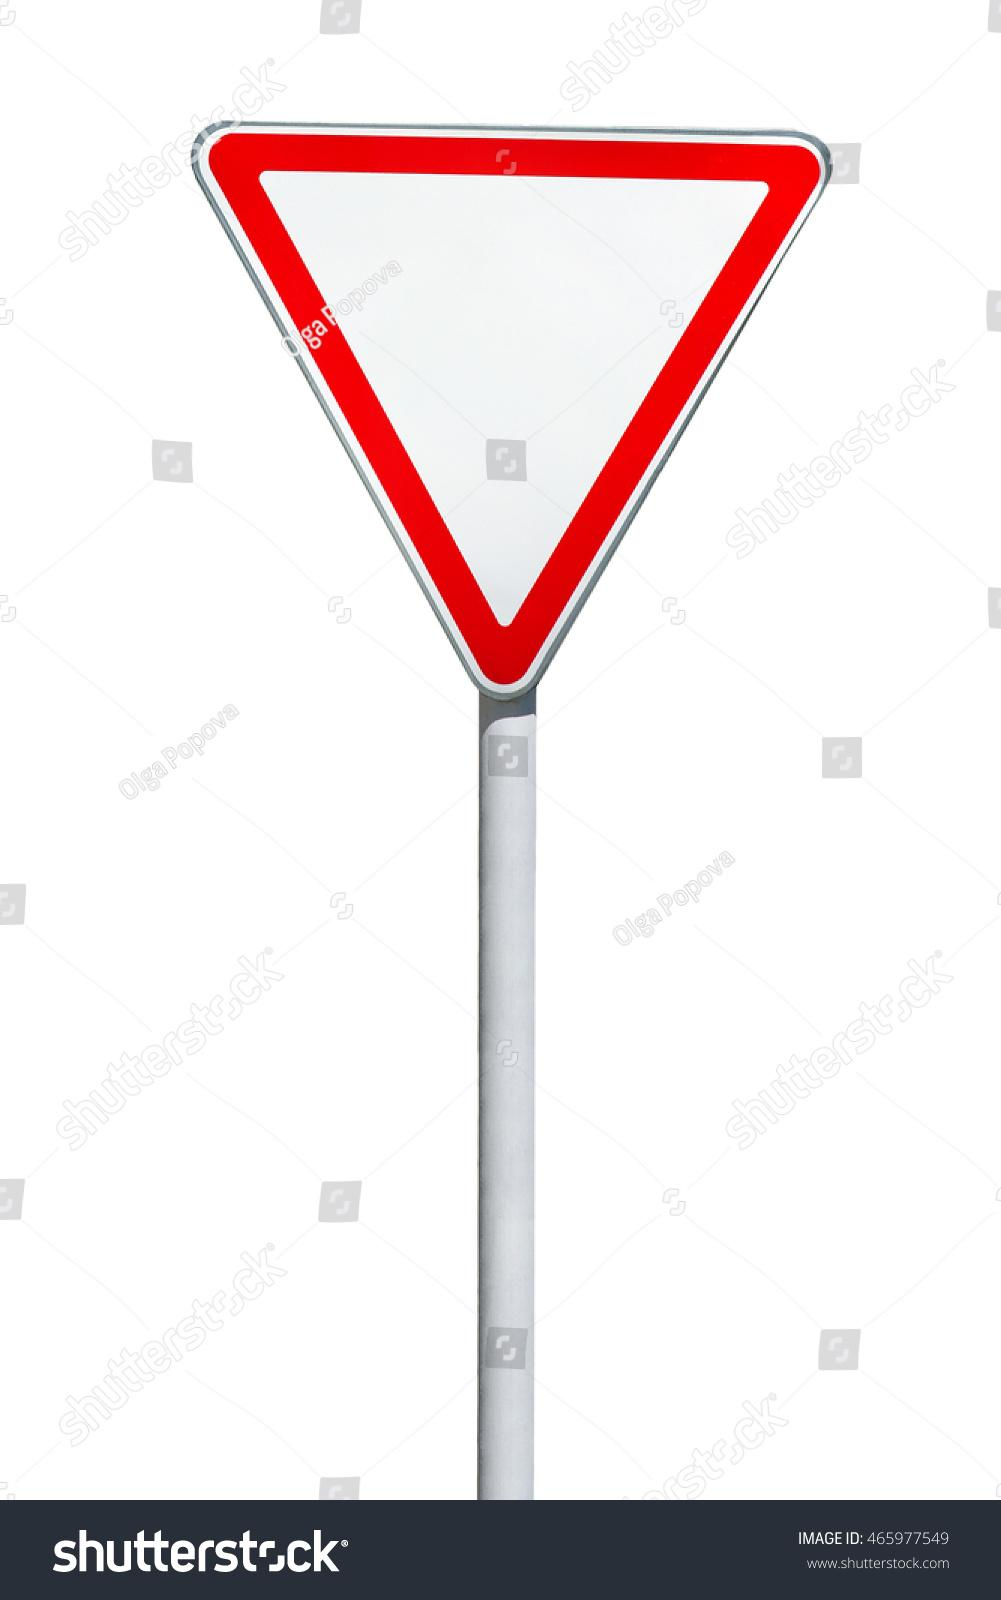Give Way: (208, 81, 887, 711)
